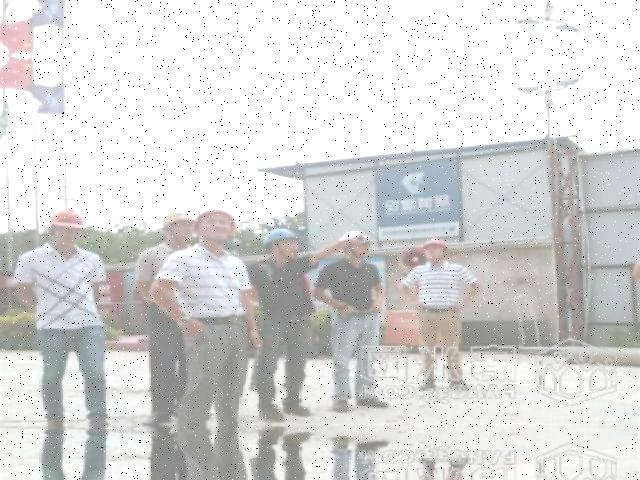Helmet: (195, 204, 245, 241), (46, 204, 94, 236), (262, 222, 306, 248), (154, 209, 198, 230), (420, 235, 456, 254)
